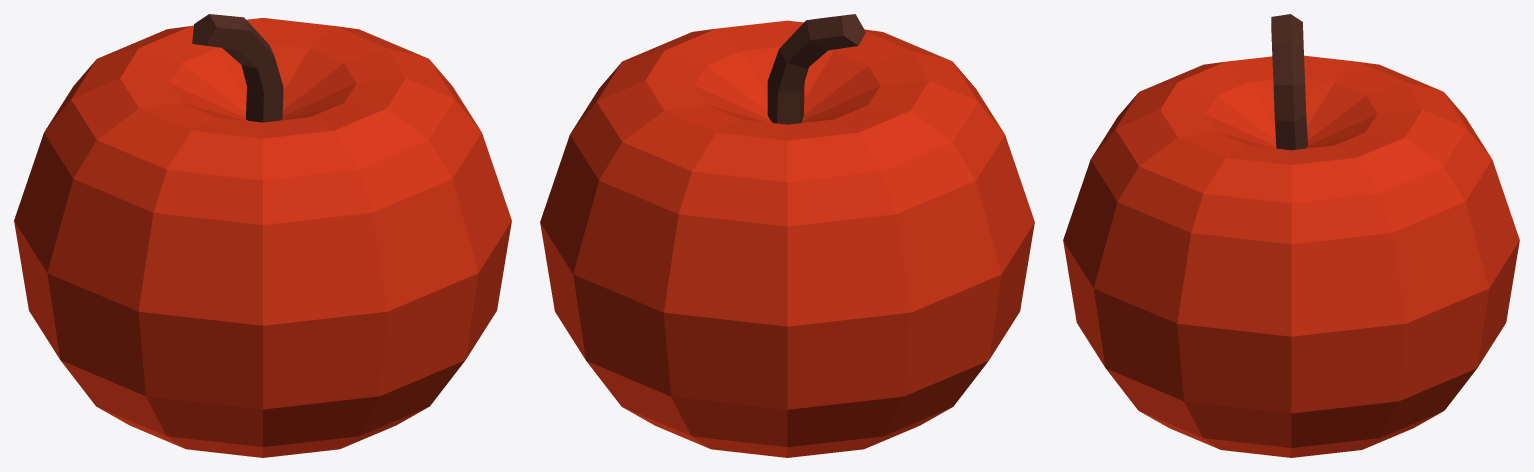
Rendered from apple.glb.
3 views of the same model, side by side, from view 1: azimuth 30°, elevation 25°; view 2: azimuth 150°, elevation 25°; view 3: azimuth 270°, elevation 25° (orthographic). The views are drawn at different scales.
Visible parts, largest first — view 1: apple; view 2: apple; view 3: apple.
Part boxes in pixels (bbox=[...]): apple: bbox=[14, 14, 511, 457]; apple: bbox=[540, 14, 1034, 457]; apple: bbox=[1063, 14, 1519, 457].
Size of the model in its own units: 1.18 by 1.09 by 1.18.
Materials: 1 (1 with a texture image).
